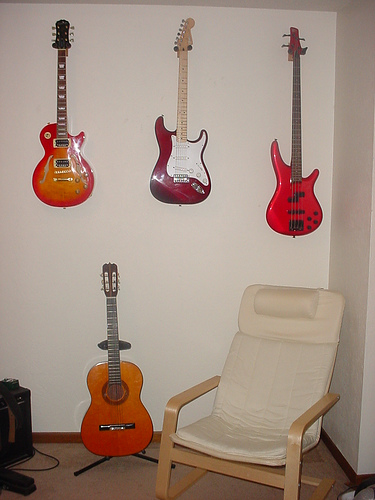guitar: (80, 262, 157, 457)
